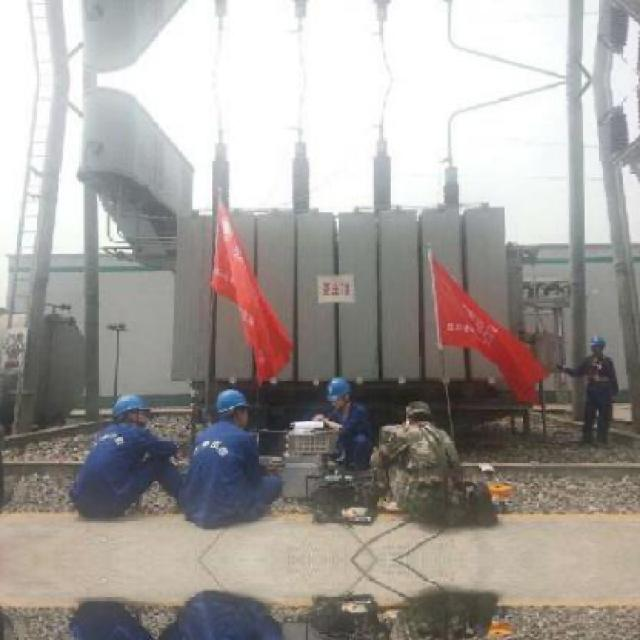helmet: (111, 390, 152, 428), (214, 386, 252, 425), (321, 370, 354, 408), (588, 332, 608, 360)
